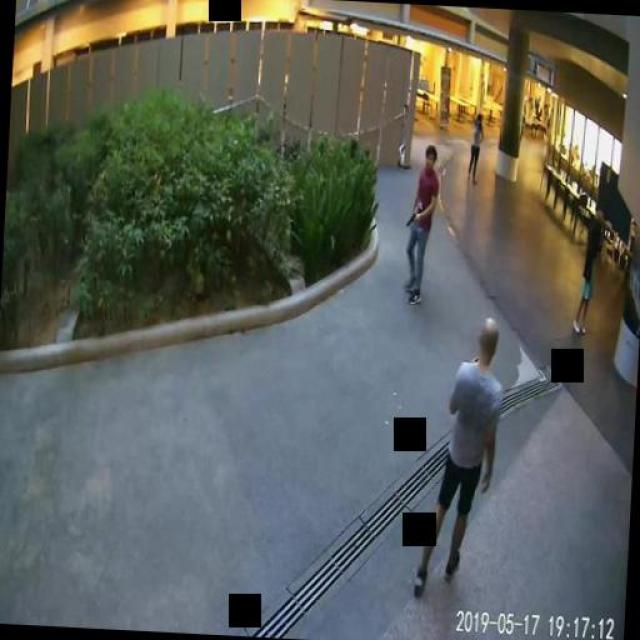gun: (405, 211, 416, 225)
